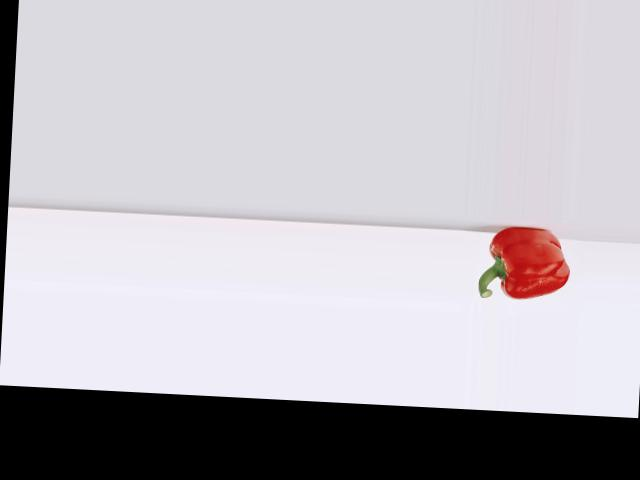bell_pepper: (469, 221, 576, 305)
